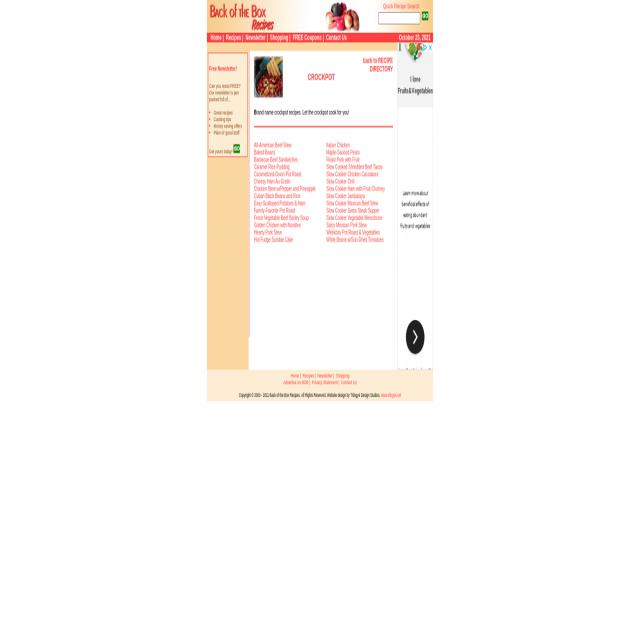button: (207, 0, 311, 33), (254, 56, 283, 98), (325, 0, 359, 33), (406, 320, 426, 355), (233, 142, 240, 154), (422, 11, 428, 20), (423, 42, 428, 52), (428, 42, 433, 51)
field: (378, 12, 420, 24)
